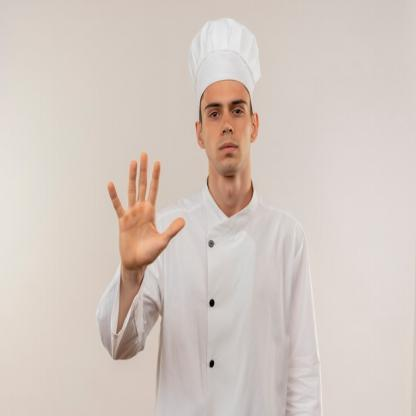stop: (105, 148, 187, 276)
